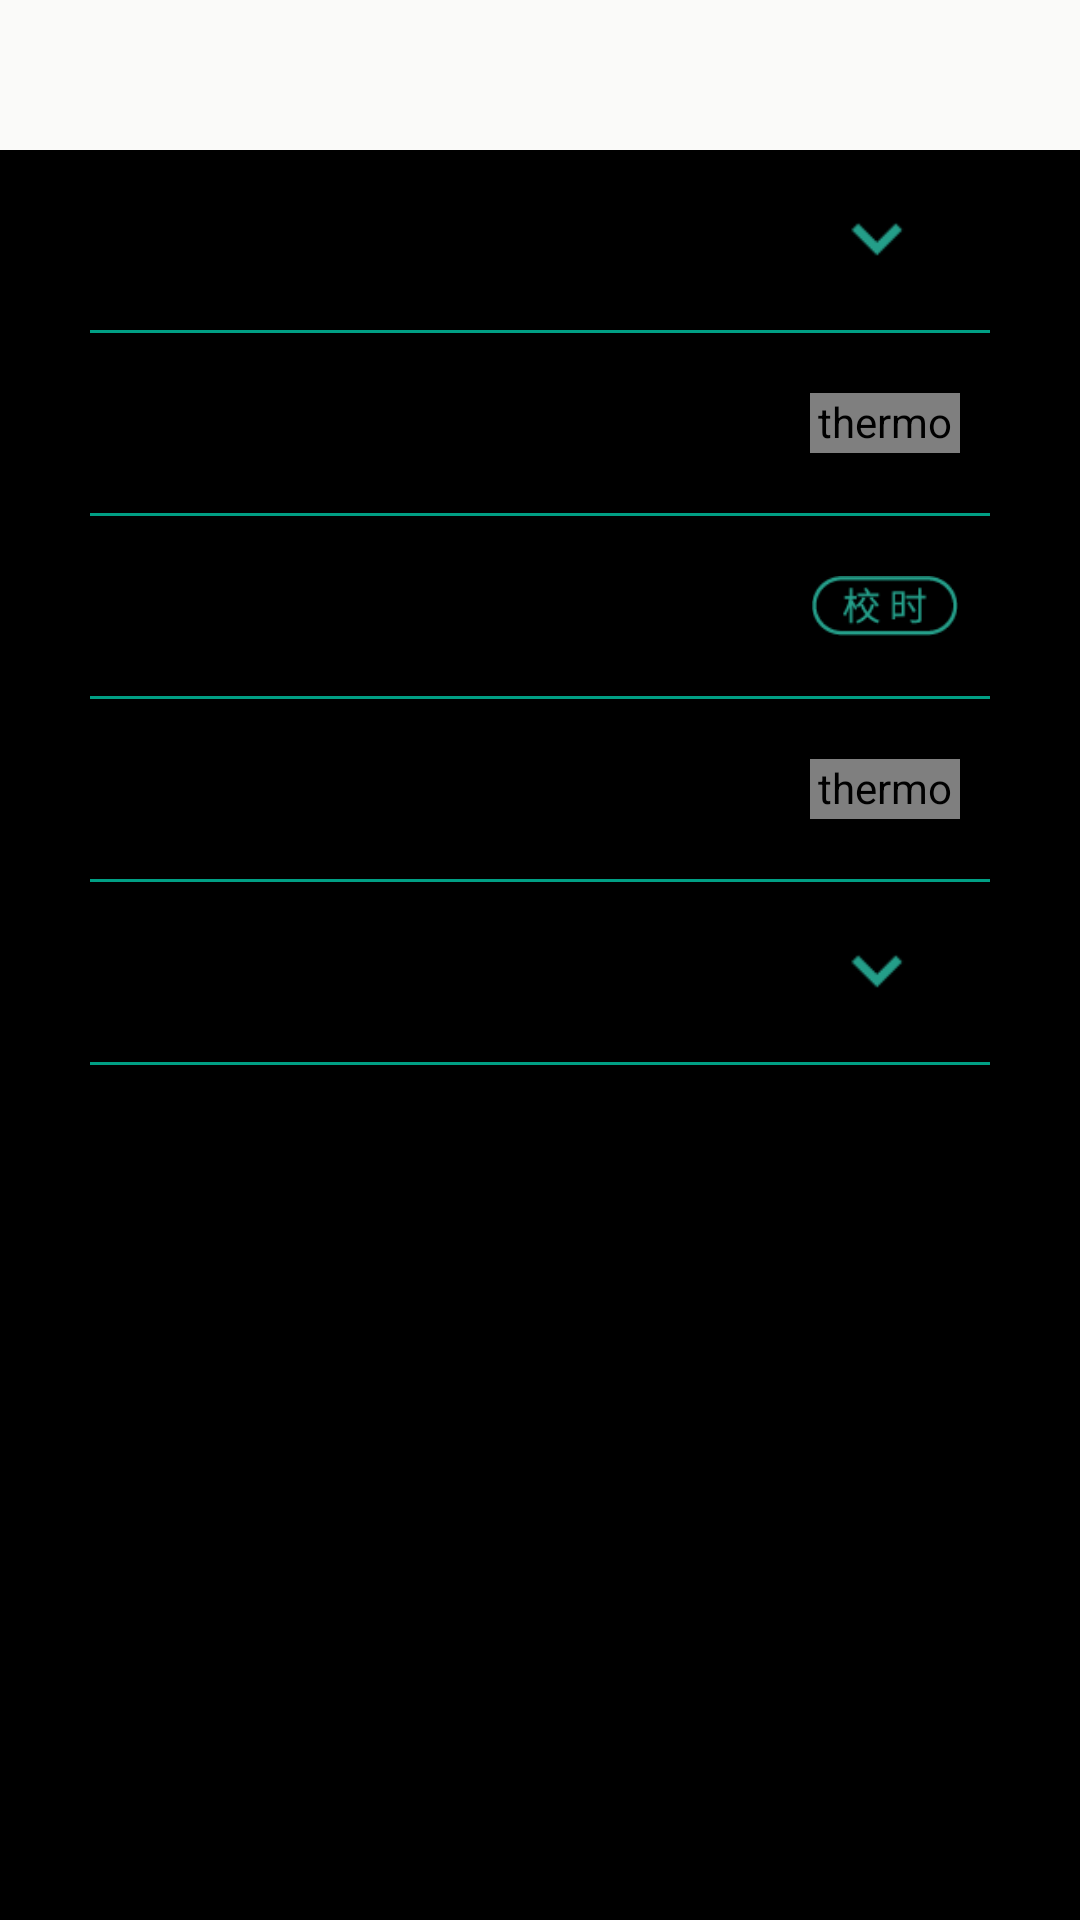

Icon click points for this 1080 × 1920 phone screenshot, format [x,y]:
down: [876,239], [876,971]
